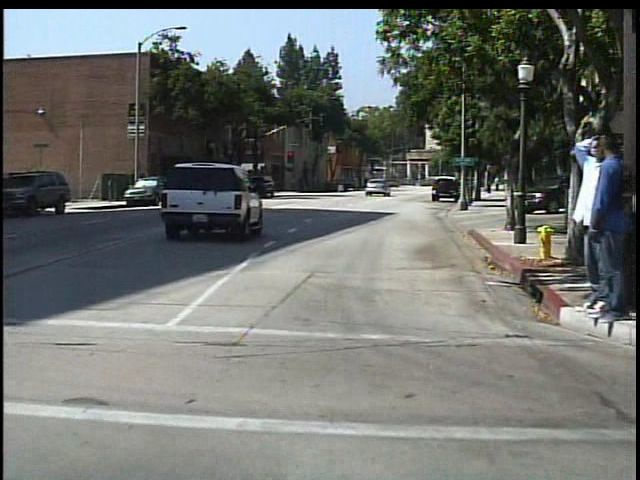person: (581, 135, 621, 325), (564, 133, 603, 320), (333, 173, 348, 195), (493, 172, 502, 194)
